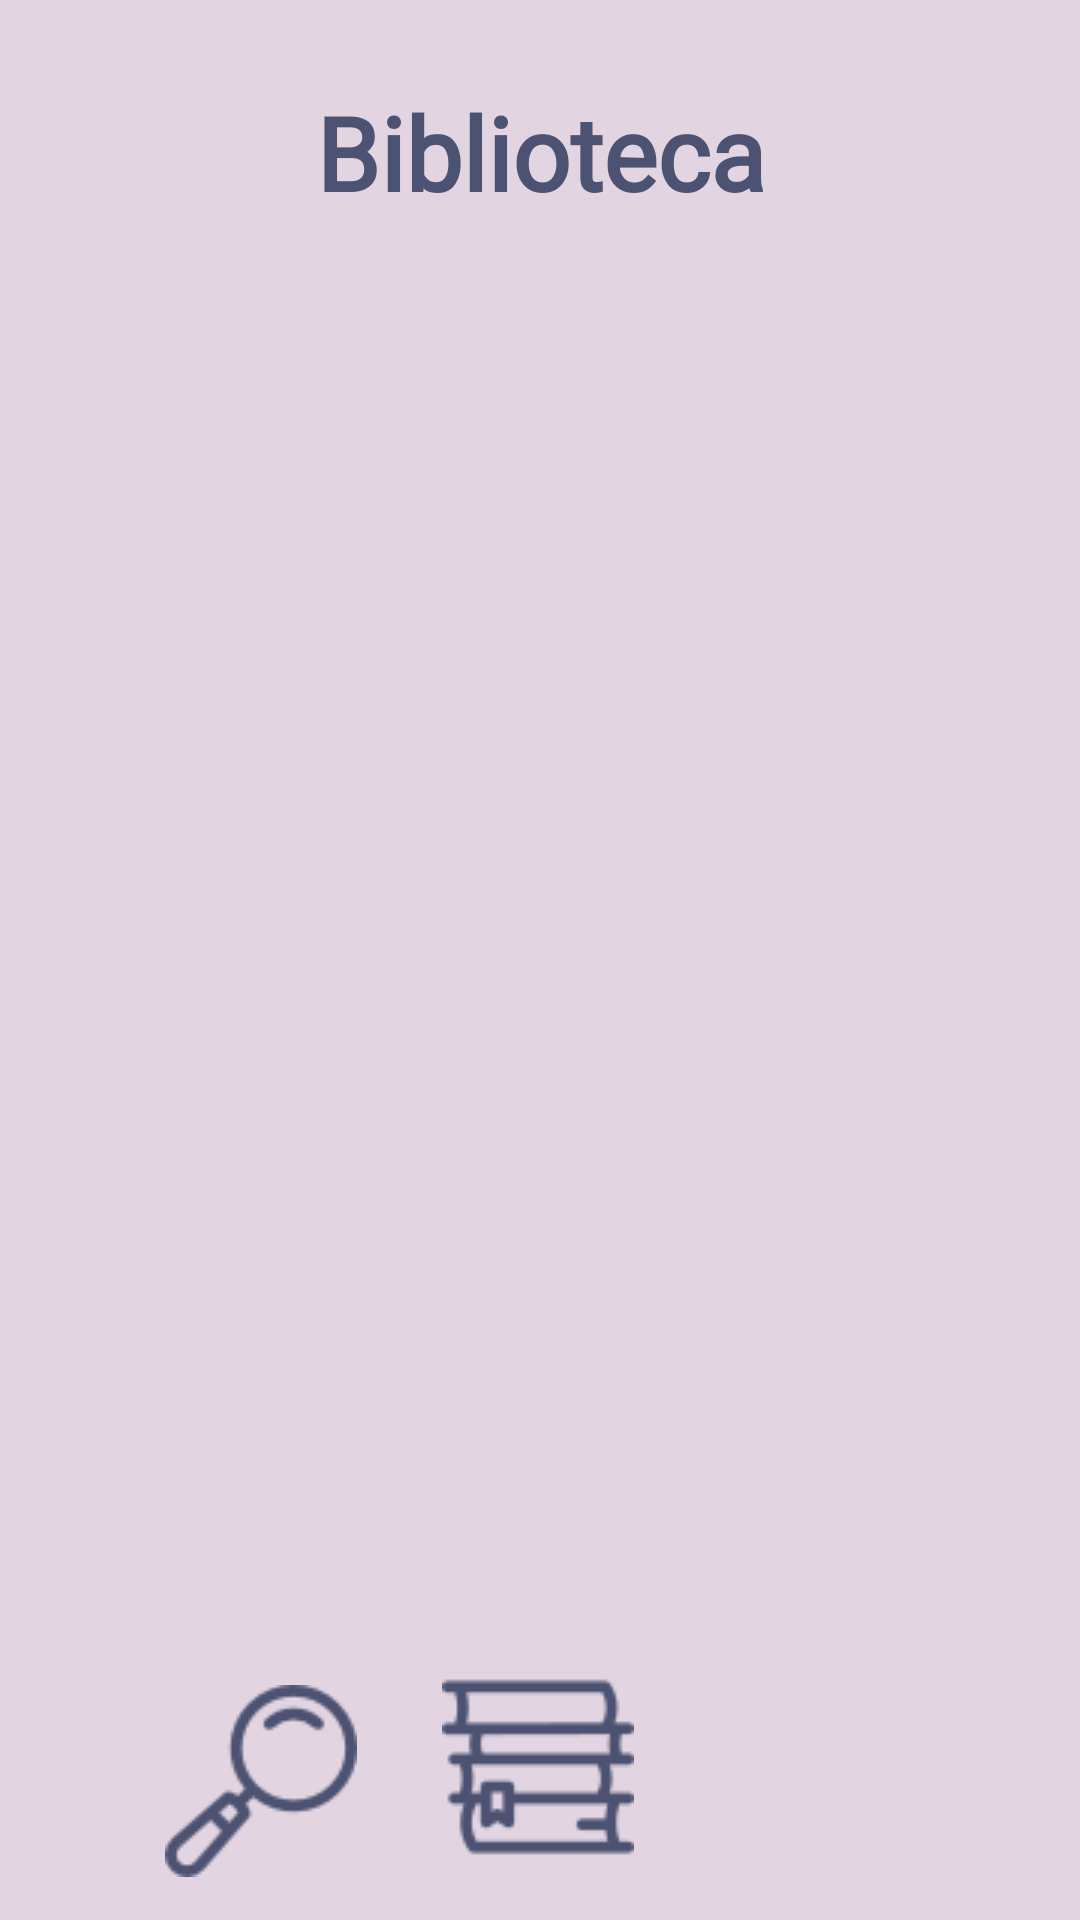

Where to tap for icons on this 1080px x 1920px app screen, as [x,y]:
Botón para acceder a tus listas de libros: [538,1767]
Botón para buscar nuevos libros: [261,1781]
